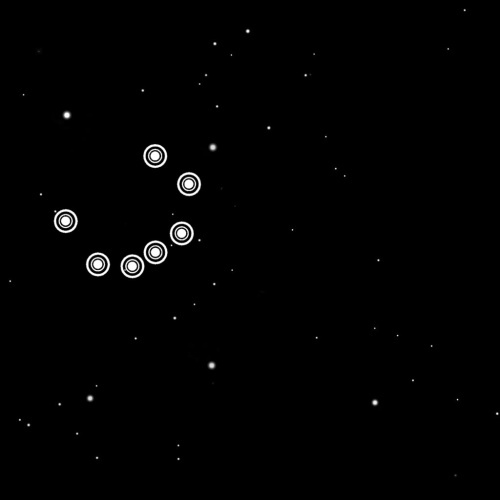corona_borealis: (49, 133, 203, 284)
